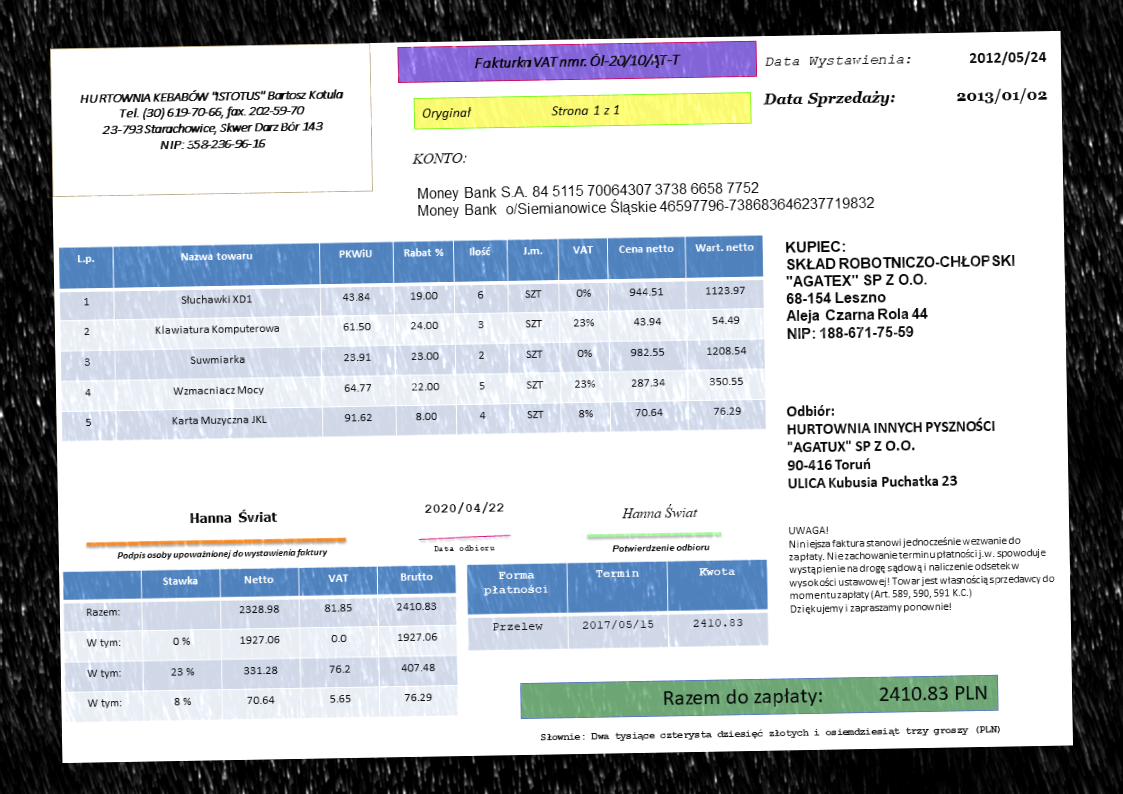Table: (57, 233, 769, 444), (60, 562, 461, 724), (465, 557, 769, 652)
TextBox: (785, 517, 1058, 617), (781, 232, 1018, 343), (414, 173, 877, 220), (783, 398, 998, 493), (77, 86, 347, 155), (538, 721, 1003, 747), (660, 678, 990, 710), (418, 100, 623, 124), (470, 50, 685, 72), (115, 544, 333, 562), (762, 87, 898, 113), (761, 52, 914, 71), (955, 85, 1053, 107), (185, 506, 281, 527), (421, 497, 507, 519), (965, 47, 1050, 69), (608, 540, 712, 556), (620, 502, 701, 522), (409, 147, 470, 167), (431, 540, 497, 554)
